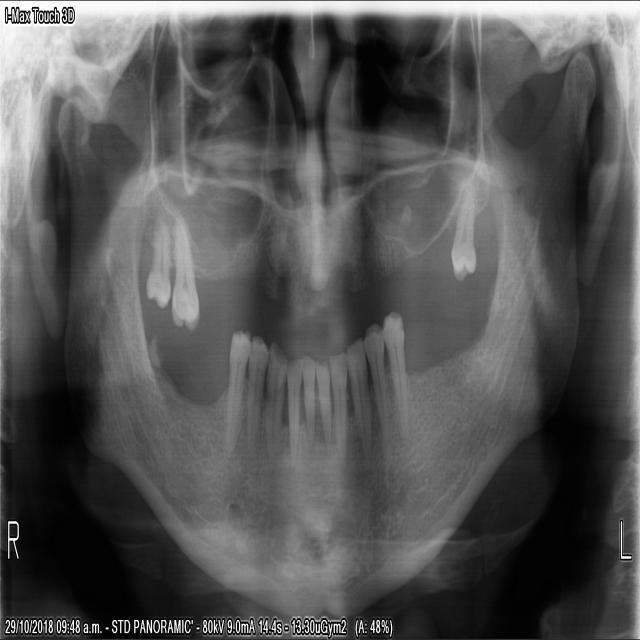LCD: (346, 330, 372, 461)
LID: (328, 347, 347, 466), (314, 356, 336, 454)
LMU: (448, 163, 479, 285)
LPMD: (363, 322, 394, 444), (381, 307, 409, 438)
RCD: (263, 339, 287, 461)
RID: (285, 352, 302, 462), (300, 351, 315, 442)
RMU: (168, 210, 200, 329), (143, 216, 170, 310)
RPMD: (221, 325, 252, 453), (245, 325, 269, 445)
